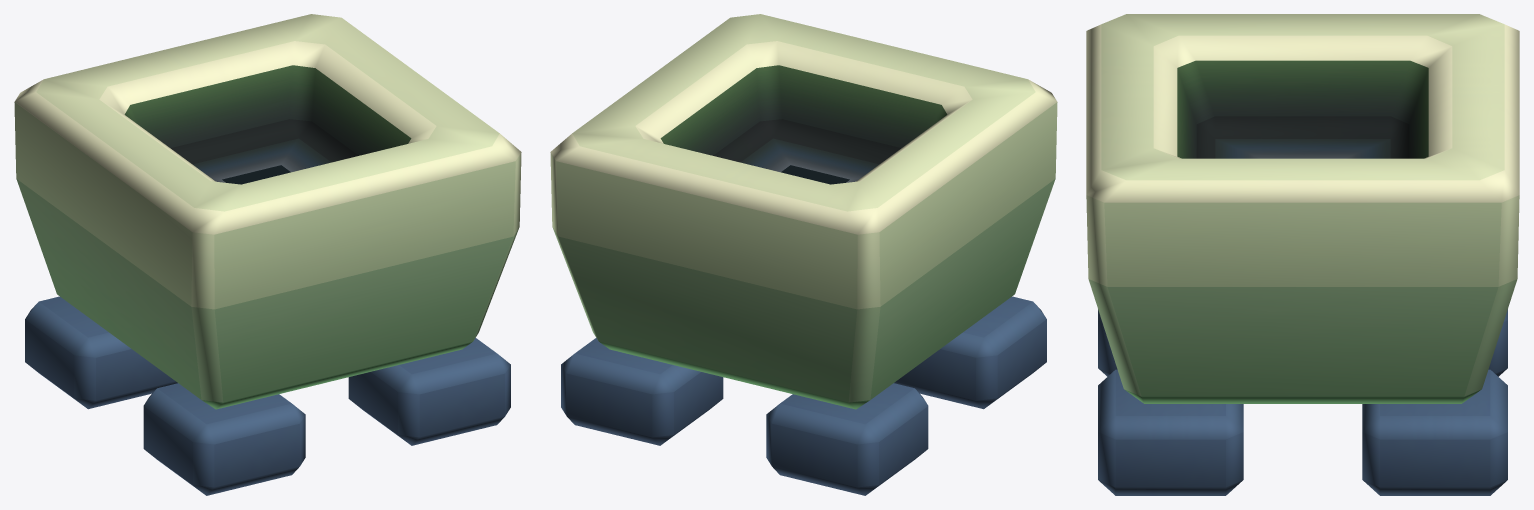
The model's file is torch_standing.fbx.
The picture shows the model from 3 angles, left to right: view 1: azimuth 30°, elevation 25°; view 2: azimuth 150°, elevation 25°; view 3: azimuth 270°, elevation 25°; orthographic projection. The views are drawn at different scales.
Parts seen in each view (by area): view 1: torch_standing; view 2: torch_standing; view 3: torch_standing.
Boxes of the visible parts, x1,y1,x2,y2 form: torch_standing: (14, 14, 521, 495); torch_standing: (550, 14, 1057, 495); torch_standing: (1086, 14, 1519, 495).
Bounding box in the file's own units: 120 × 100 × 123.
